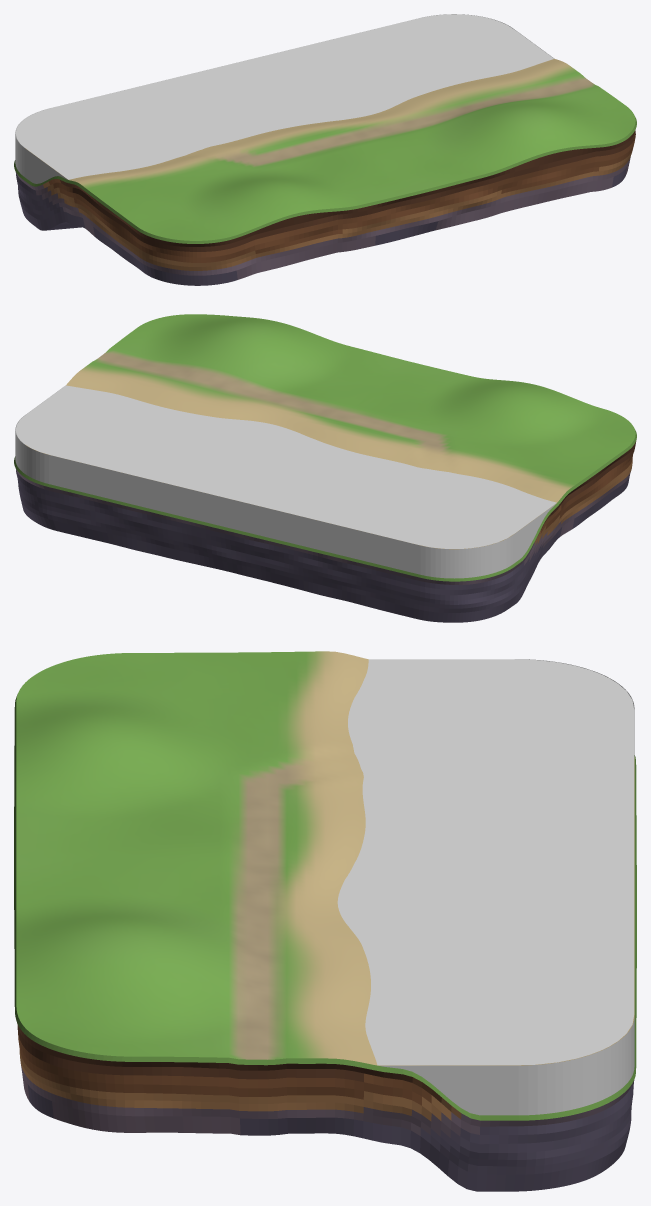
The model's file is terrain_level04.fbx.
3 renders of one model, top to bottom at view 1: azimuth 30°, elevation 25°; view 2: azimuth 150°, elevation 25°; view 3: azimuth 270°, elevation 25°, orthographic. The views are drawn at different scales.
Parts seen in each view (by area): view 1: Ground, Water_sea; view 2: Ground, Water_sea; view 3: Ground, Water_sea.
Boxes of the visible parts, x1=… form: Ground: x1=14, y1=58, x2=636, y2=285; Water_sea: x1=15, y1=14, x2=554, y2=183; Ground: x1=14, y1=314, x2=636, y2=622; Water_sea: x1=15, y1=385, x2=556, y2=578; Ground: x1=14, y1=651, x2=636, y2=1191; Water_sea: x1=337, y1=659, x2=634, y2=1115.
Bounding box in the file's own units: 14.07 × 2.74 × 9.07.
